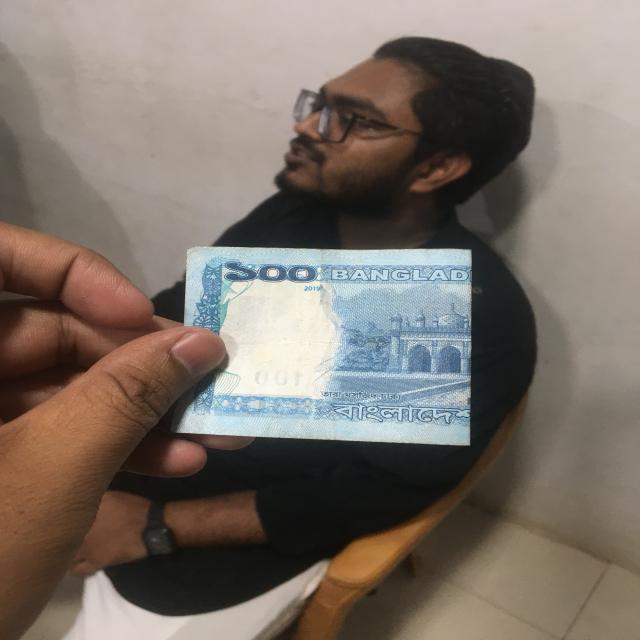Taka: (181, 244, 466, 449)
